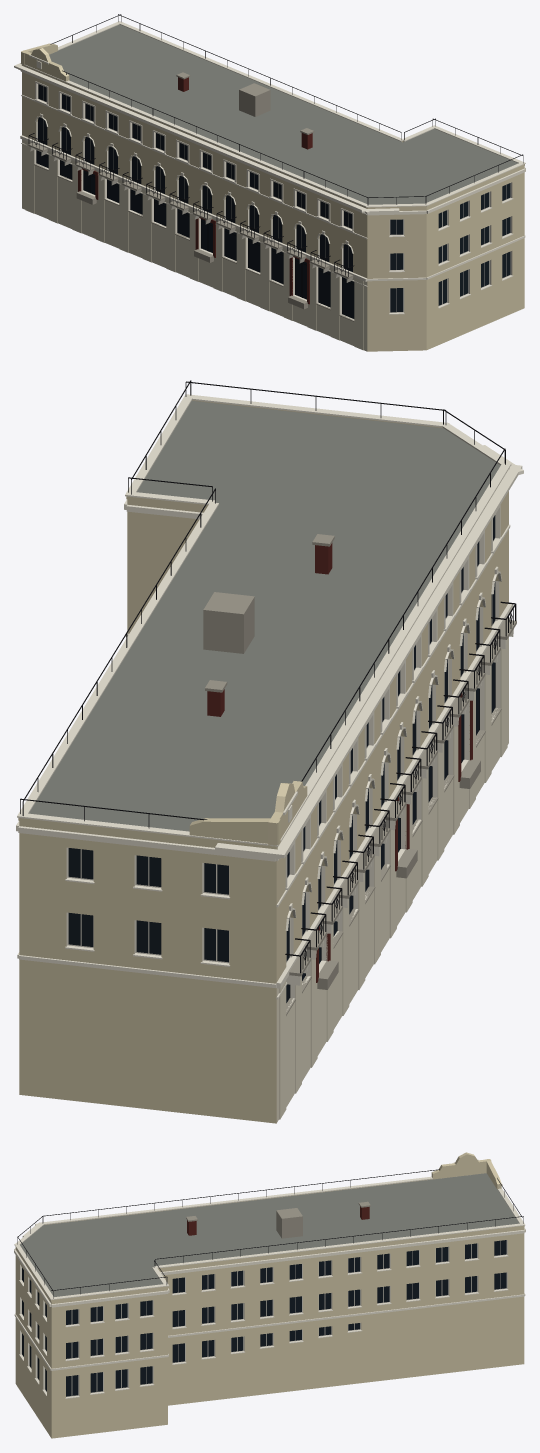
The model's file is bmorskaya27.glb.
The picture shows the model from 3 angles, top to bottom: view 1: azimuth 30°, elevation 25°; view 2: azimuth 150°, elevation 25°; view 3: azimuth 270°, elevation 25°; orthographic projection. The views are drawn at different scales.
Visible parts, largest first — view 1: bmorskaya27_wall, bmorskaya27_roof, bmorskaya27_trim, bmorskaya27_wall2, bmorskaya27_glass, bmorskaya27_metal, bmorskaya27_stone, bmorskaya27_wall3; view 2: bmorskaya27_roof, bmorskaya27_wall, bmorskaya27_trim, bmorskaya27_wall2, bmorskaya27_stone, bmorskaya27_glass, bmorskaya27_metal, bmorskaya27_wall3; view 3: bmorskaya27_wall, bmorskaya27_roof, bmorskaya27_trim, bmorskaya27_glass, bmorskaya27_metal, bmorskaya27_stone.
Boxes of the visible parts, bbox=[...] form: bmorskaya27_wall: bbox=[21, 43, 524, 351]; bmorskaya27_roof: bbox=[49, 24, 517, 204]; bmorskaya27_trim: bbox=[14, 21, 525, 320]; bmorskaya27_wall2: bbox=[22, 139, 367, 351]; bmorskaya27_glass: bbox=[36, 84, 510, 318]; bmorskaya27_metal: bbox=[28, 14, 523, 313]; bmorskaya27_stone: bbox=[28, 72, 354, 321]; bmorskaya27_wall3: bbox=[78, 77, 312, 304]; bmorskaya27_roof: bbox=[29, 400, 500, 831]; bmorskaya27_wall: bbox=[18, 400, 509, 1123]; bmorskaya27_trim: bbox=[16, 394, 523, 1011]; bmorskaya27_wall2: bbox=[276, 618, 508, 1122]; bmorskaya27_stone: bbox=[203, 534, 516, 1015]; bmorskaya27_glass: bbox=[68, 515, 495, 1002]; bmorskaya27_metal: bbox=[20, 380, 516, 997]; bmorskaya27_wall3: bbox=[207, 543, 472, 982]; bmorskaya27_wall: bbox=[15, 1152, 524, 1438]; bmorskaya27_roof: bbox=[20, 1173, 519, 1296]; bmorskaya27_trim: bbox=[14, 1159, 525, 1398]; bmorskaya27_glass: bbox=[22, 1240, 506, 1396]; bmorskaya27_metal: bbox=[17, 1169, 523, 1298]; bmorskaya27_stone: bbox=[186, 1201, 370, 1238].
Size of the model in its own units: 31.45 by 17.75 by 51.45.
